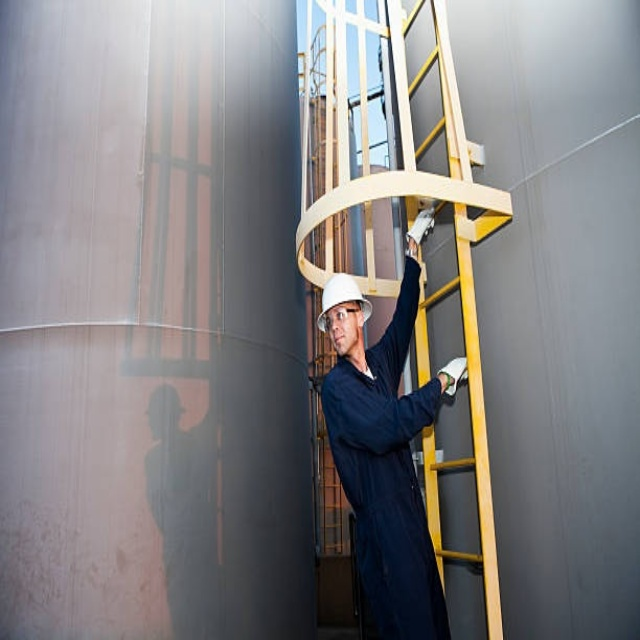Gafas: (325, 306, 360, 327)
Guantes: (438, 356, 468, 397), (406, 209, 435, 251)
Sin_mascara: (330, 329, 346, 353)
